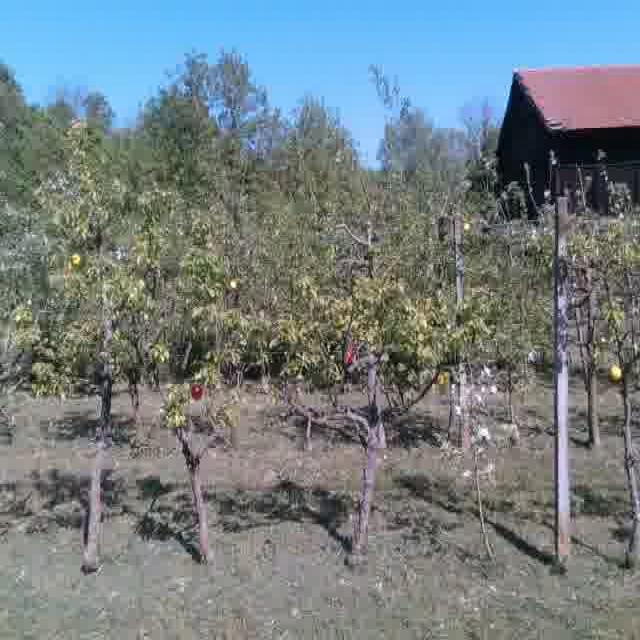red: (342, 345, 357, 364), (190, 381, 205, 398)
yellow: (607, 364, 624, 381), (70, 251, 83, 269)
